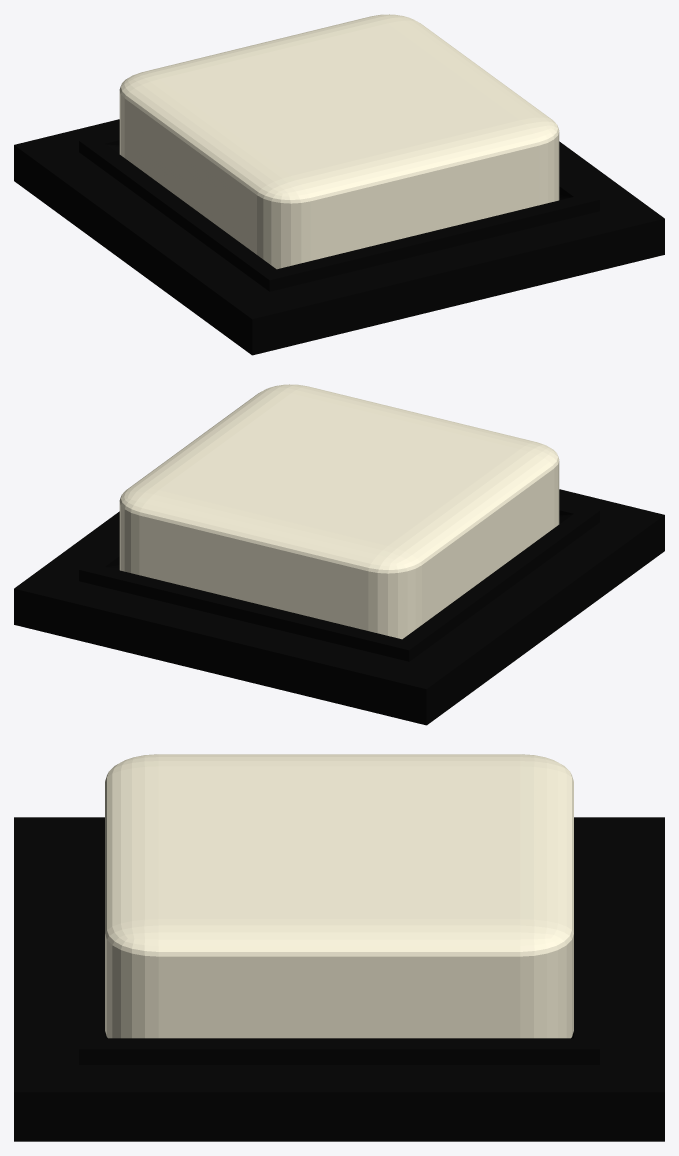
File: Button.fbx
3 renders of one model, top to bottom at view 1: azimuth 30°, elevation 25°; view 2: azimuth 150°, elevation 25°; view 3: azimuth 270°, elevation 25°, orthographic. The views are drawn at different scales.
Visible parts, largest first — view 1: Cube.003, Cube.002; view 2: Cube.003, Cube.002; view 3: Cube.003, Cube.002.
Part boxes in pixels (bbox=[...]): Cube.003: bbox=[105, 14, 573, 269]; Cube.002: bbox=[14, 119, 664, 355]; Cube.003: bbox=[105, 384, 573, 639]; Cube.002: bbox=[14, 489, 664, 725]; Cube.003: bbox=[105, 754, 573, 1038]; Cube.002: bbox=[14, 817, 664, 1141].
Bounding box in the file's own units: 42.65 × 11.67 × 42.65.
